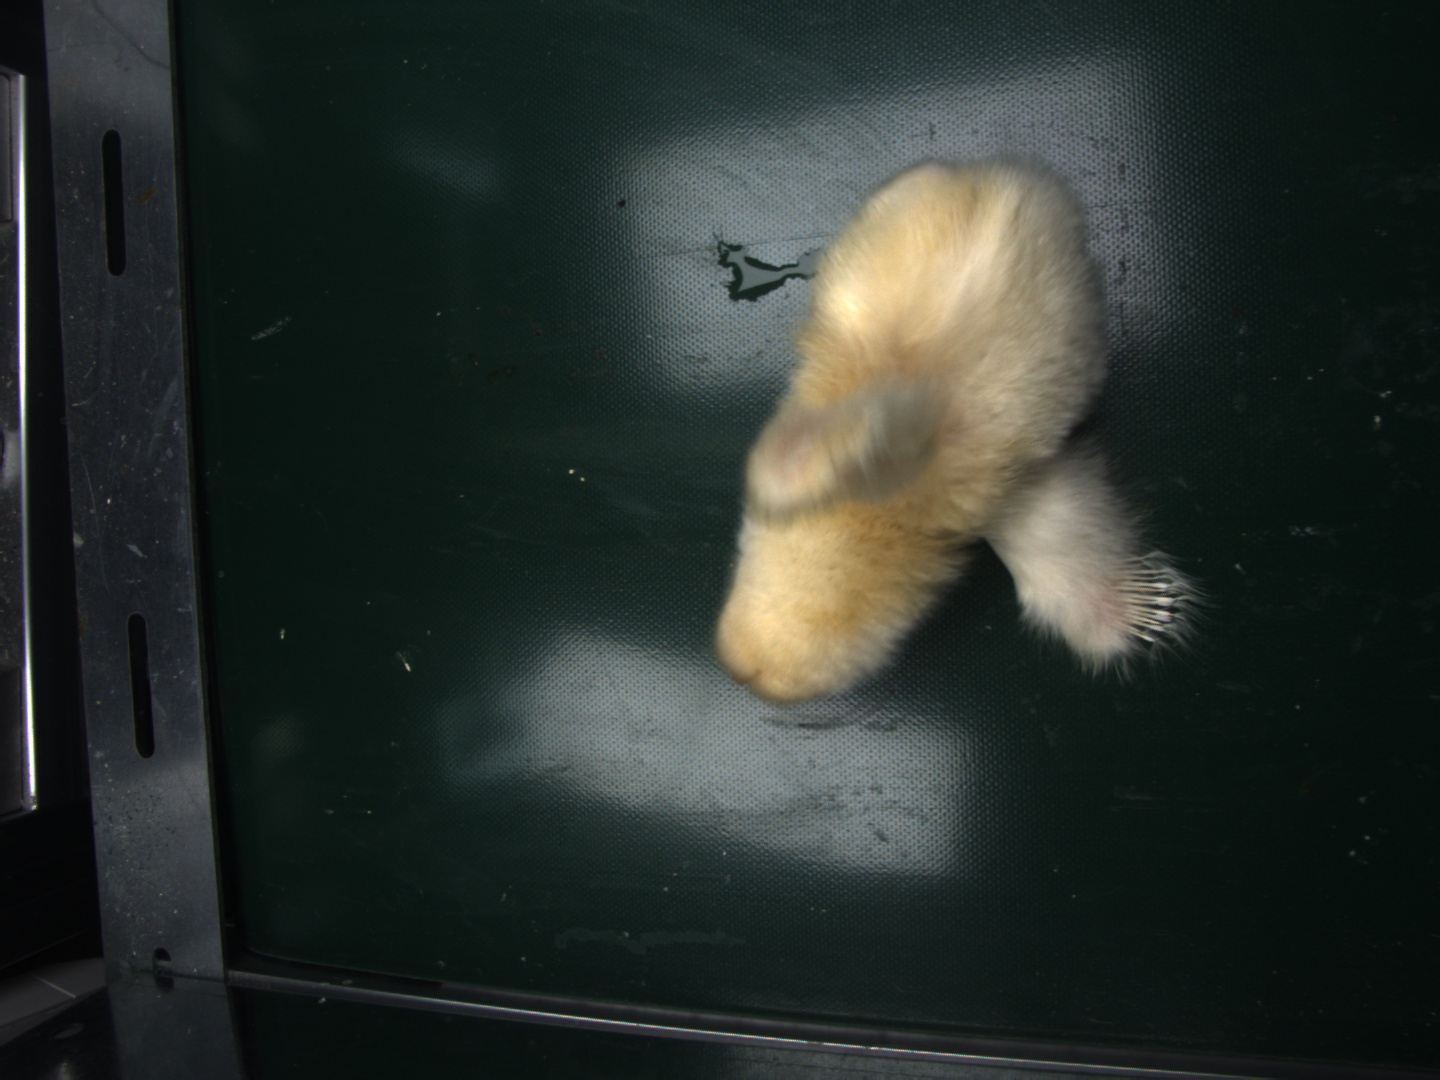male: (1112, 552, 1179, 642)
